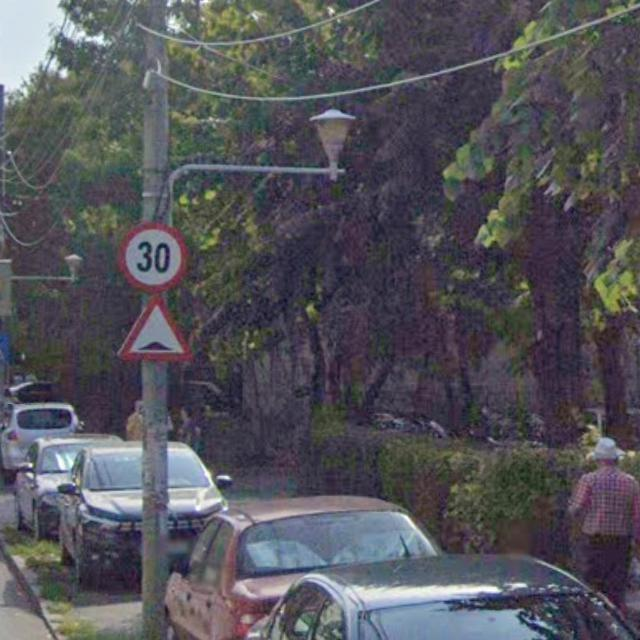forb_speed_over_30: (116, 221, 188, 293)
